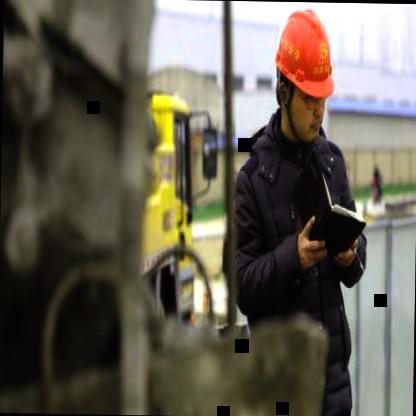helmet: (268, 1, 340, 151)
